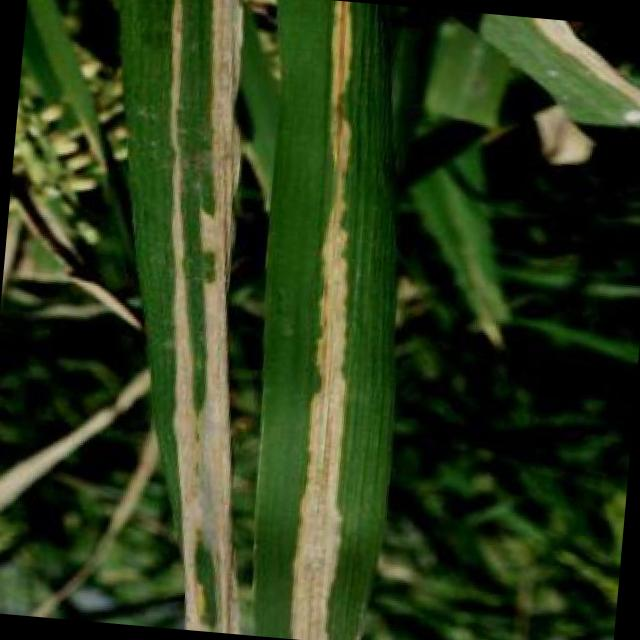Rice_Bacterial_Blight: (227, 0, 424, 636), (75, 0, 264, 629)
